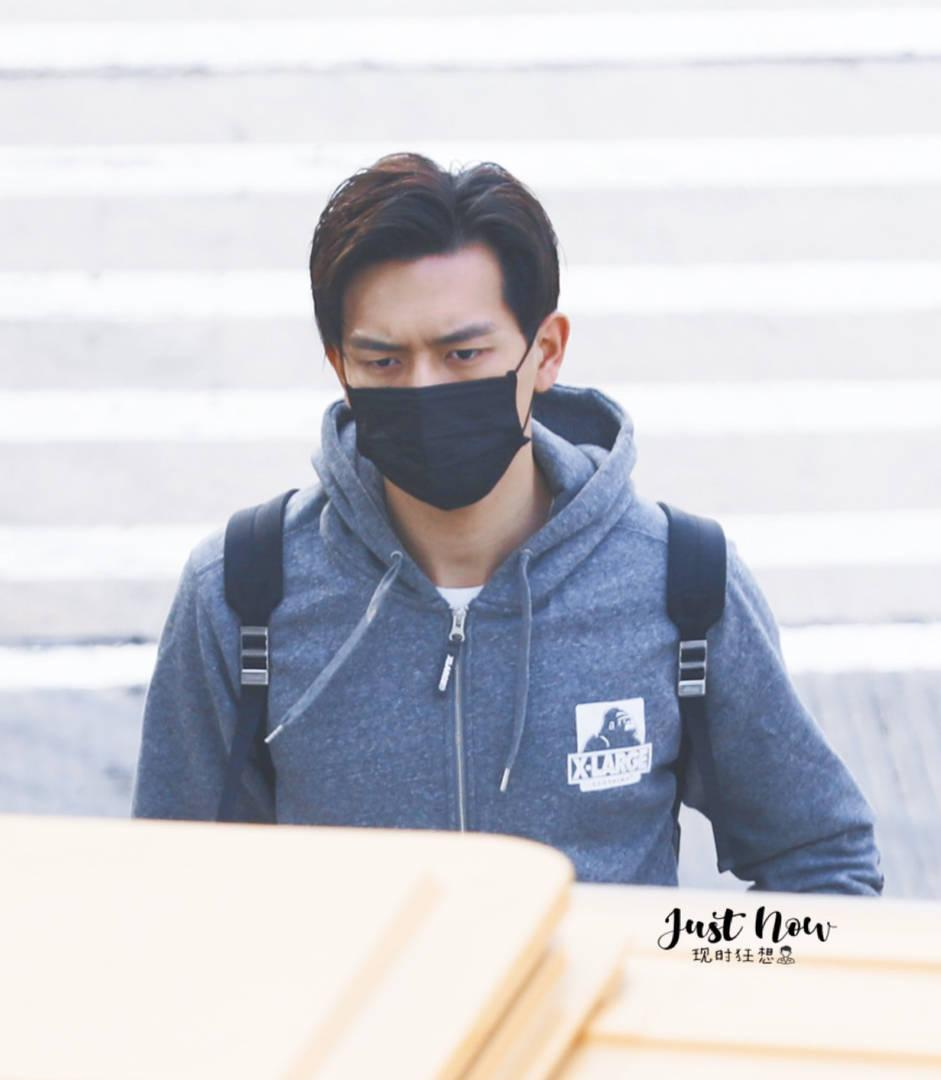OK: (339, 284, 534, 509)
